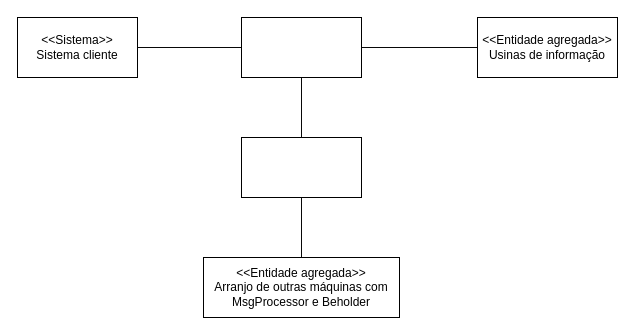
Image size: 635x335. Some labels were removed from this diagram. The shapes that lost their labels are listed below. From the top down, each one's centre as x and y in pixels, then its label:
pixel 301 47: <<Aplicação>> MsgProcessor
pixel 301 167: <<Aplicação>> Beholder
